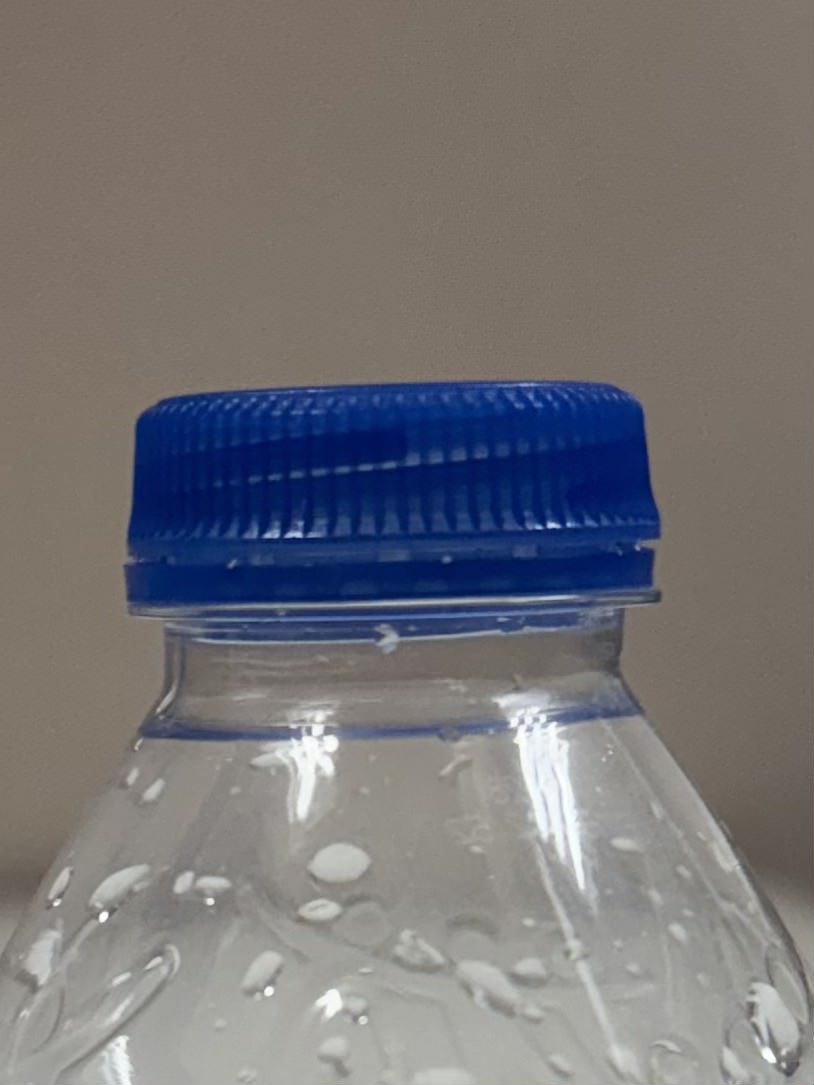closed_cap: (121, 376, 666, 619)
